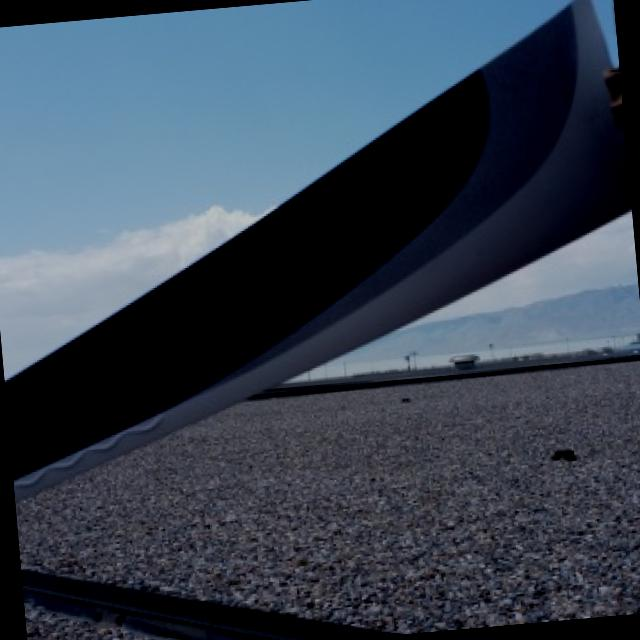healthy: (4, 0, 629, 499), (19, 363, 640, 628)
